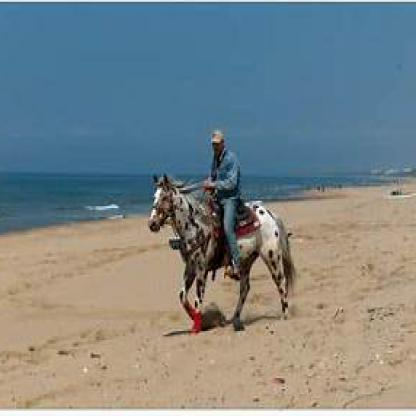horse: (147, 175, 291, 331)
